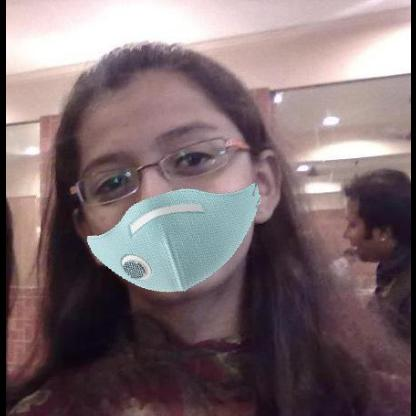FFP Mask: (64, 56, 272, 292)
